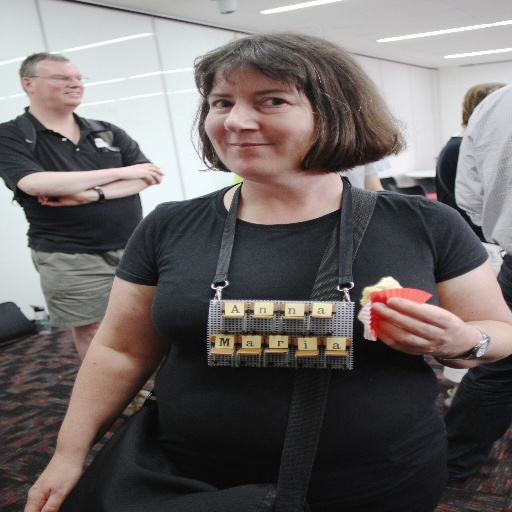hand: (368, 292, 483, 357), (22, 460, 87, 511), (37, 187, 98, 208), (121, 161, 166, 185)
